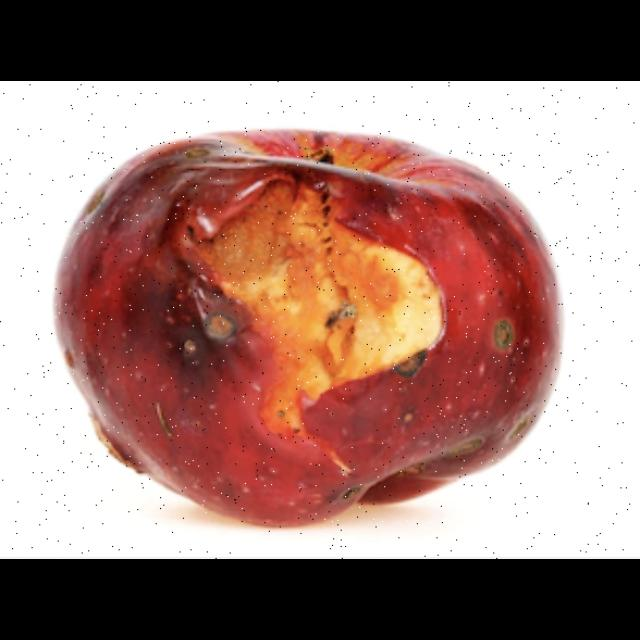Apel Tidak Segar: (59, 129, 564, 533)
